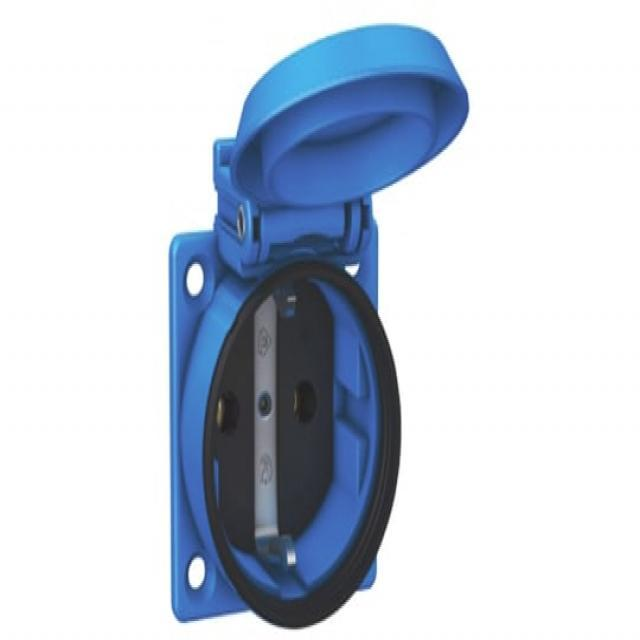typeb: (98, 6, 480, 640)
